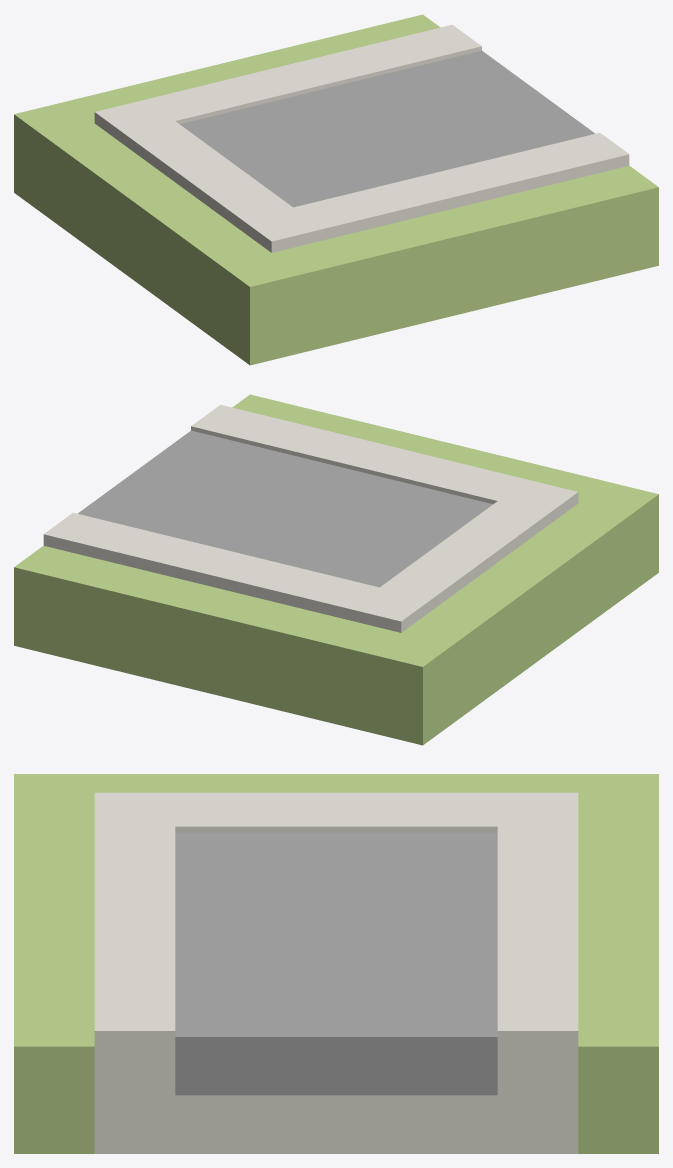
File: road_tile_038.glb
3 renders of one model, top to bottom at view 1: azimuth 30°, elevation 25°; view 2: azimuth 150°, elevation 25°; view 3: azimuth 270°, elevation 25°, orthographic. The views are drawn at different scales.
Parts seen in each view (by area): view 1: roadTile_038; view 2: roadTile_038; view 3: roadTile_038.
Boxes of the visible parts, <box> form: roadTile_038: <box>14,14,658,365</box>; roadTile_038: <box>14,394,658,745</box>; roadTile_038: <box>14,774,658,1153</box>.
Bounding box in the file's own units: 3 × 0.63 × 3.
